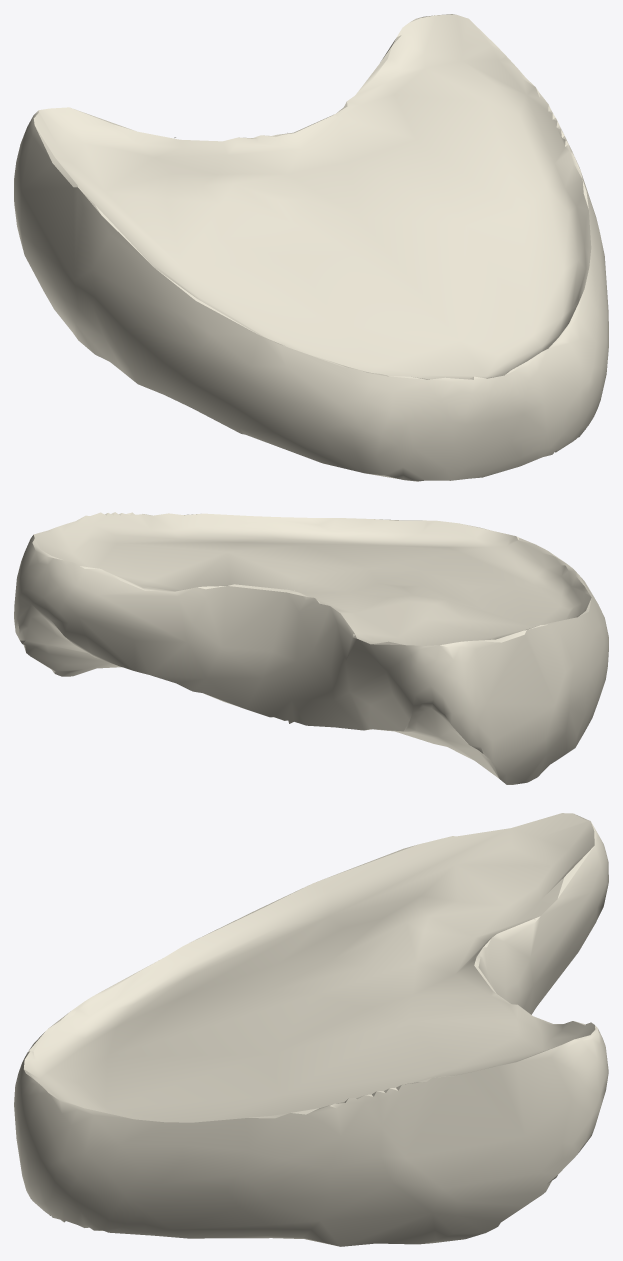
Rendered from fma13501_fj3203.glb.
3 views of the same model, one above another, from view 1: azimuth 30°, elevation 25°; view 2: azimuth 150°, elevation 25°; view 3: azimuth 270°, elevation 25° (orthographic). The views are drawn at different scales.
Visible parts, largest first — view 1: FMA13501_FJ3203; view 2: FMA13501_FJ3203; view 3: FMA13501_FJ3203.
Boxes of the visible parts, x1,y1,x2,y2 form: FMA13501_FJ3203: (14,14,608,481); FMA13501_FJ3203: (14,512,608,784); FMA13501_FJ3203: (14,813,608,1246).
Bounding box in the file's own units: 0.0297 × 0.0133 × 0.0291.
